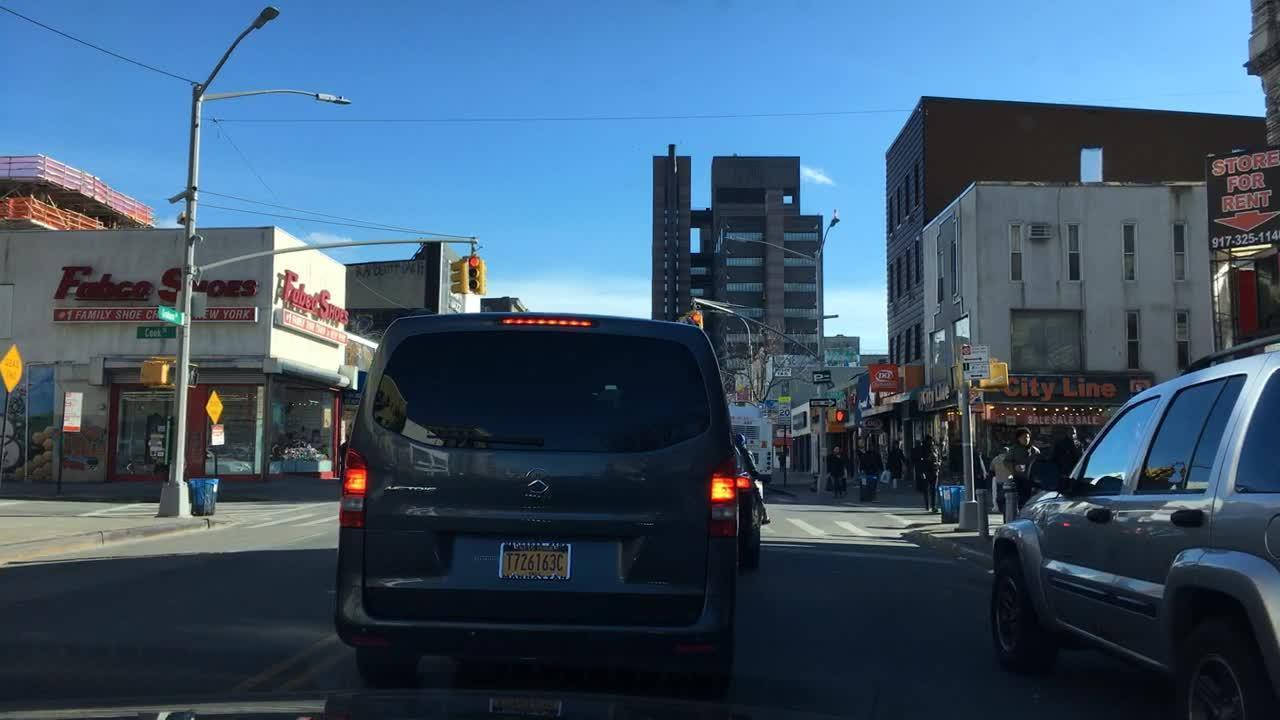Mercedes: (515, 463, 557, 502)
